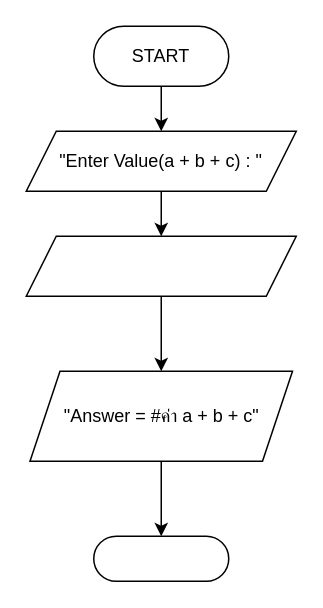
This 323x608 diagram has some shape labels left out. The shapes that lost their labels are listed below. From the top down, each one's centre as x and y in pixels, then its label:
(160,265): ใส่ค่าให้ "a b c"
(160,558): END
